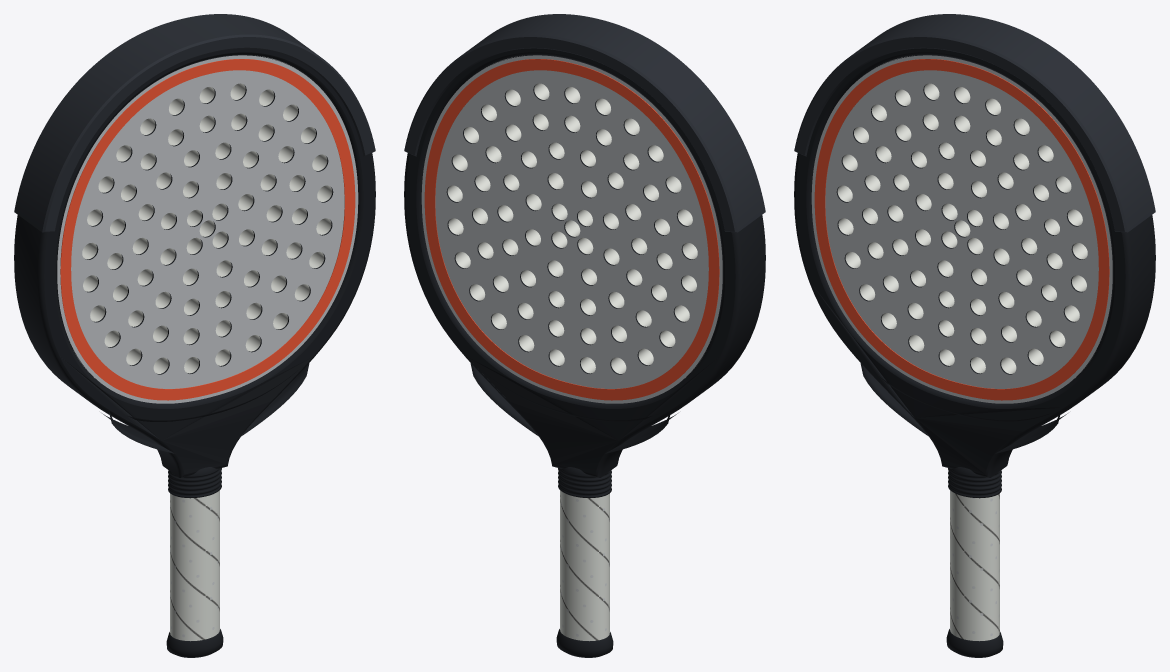
File: nox-ml10-pro-cup-rough-surface.glb
The picture shows the model from 3 angles, left to right: view 1: azimuth 30°, elevation 25°; view 2: azimuth 150°, elevation 25°; view 3: azimuth 330°, elevation 25°; orthographic projection.
Parts seen in each view (by area): view 1: part_face_front, part_frame, part_bumper, part_core, part_print, part_grip, part_collar, part_cap; view 2: part_face_back, part_frame, part_bumper, part_core, part_print, part_grip, part_collar, part_cap; view 3: part_face_front, part_frame, part_bumper, part_core, part_print, part_grip, part_collar, part_cap.
Part boxes in pixels (x1,y1,x2,y2): part_face_front: (56, 54, 358, 403); part_frame: (14, 48, 375, 477); part_bumper: (14, 14, 375, 232); part_core: (75, 56, 332, 377); part_print: (60, 59, 355, 400); part_grip: (170, 490, 219, 641); part_collar: (168, 467, 221, 498); part_cap: (166, 629, 223, 657); part_face_back: (421, 54, 723, 403); part_frame: (404, 48, 765, 477); part_bumper: (404, 14, 765, 232); part_core: (447, 56, 704, 377); part_print: (424, 59, 719, 400); part_grip: (560, 490, 609, 641); part_collar: (558, 467, 611, 498); part_cap: (556, 629, 613, 657); part_face_front: (811, 54, 1113, 403); part_frame: (794, 48, 1155, 477); part_bumper: (794, 14, 1155, 232); part_core: (837, 56, 1094, 377); part_print: (814, 59, 1109, 400); part_grip: (950, 490, 999, 641); part_collar: (948, 467, 1001, 498); part_cap: (946, 629, 1003, 657).
Size of the model in its own units: 0.26 by 0.4566 by 0.0404.
Materials: 10 (1 with a texture image).
